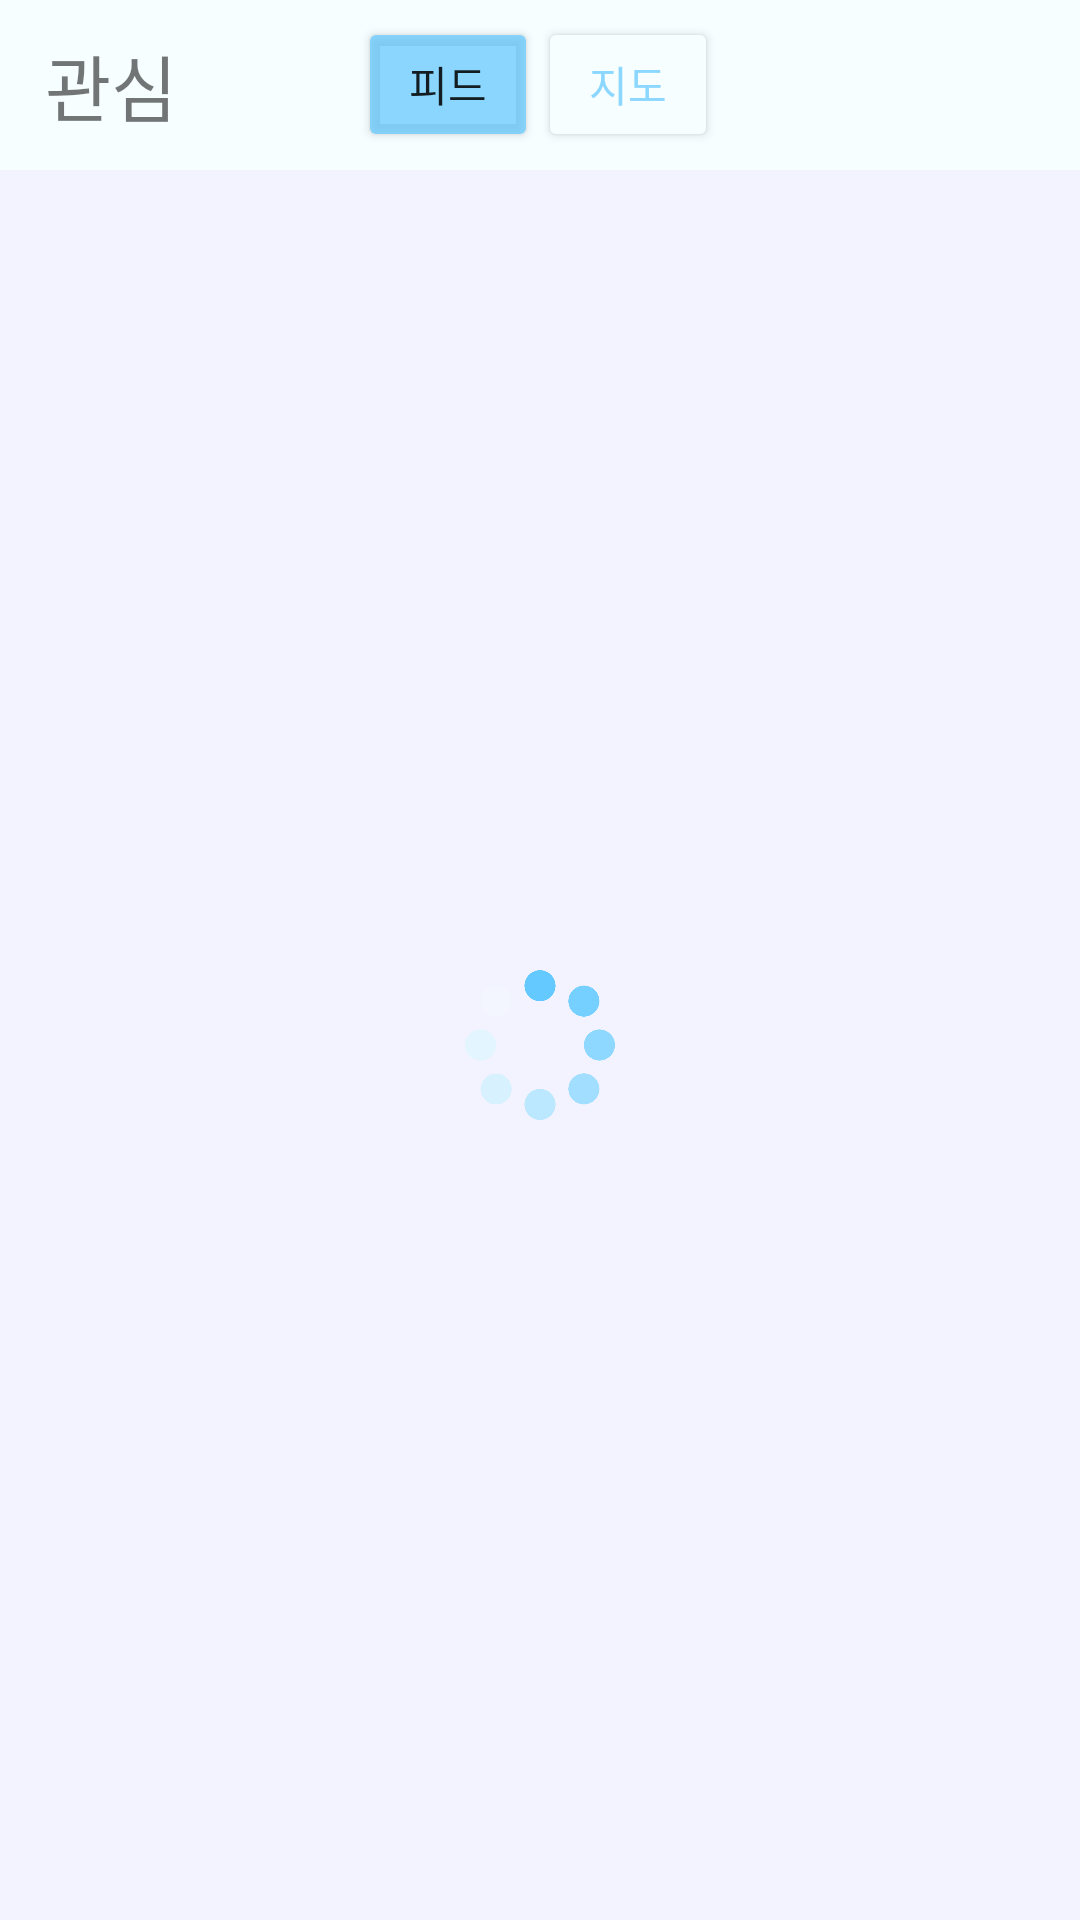

Where icons sit on this 1080×1920 app screen, as [x1=x1, y1=y1, x2=x2, y2=y2]:
loading: [x1=481, y1=970, x2=615, y2=1120]
